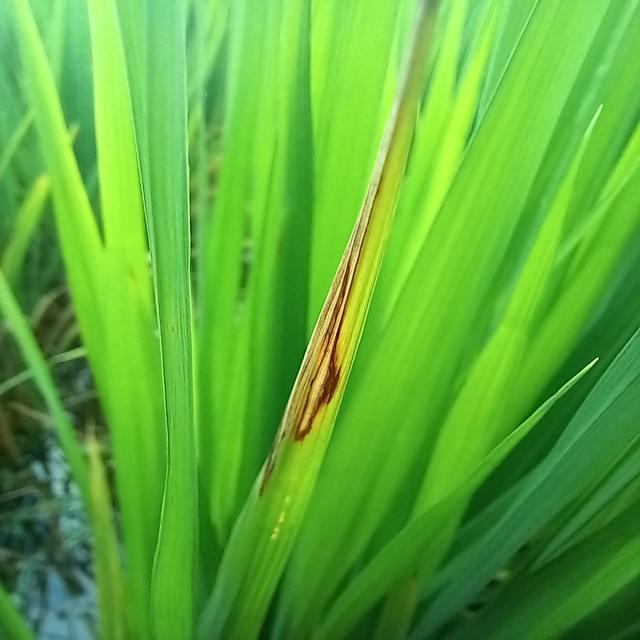Leaf_Blast: (263, 164, 392, 492)
